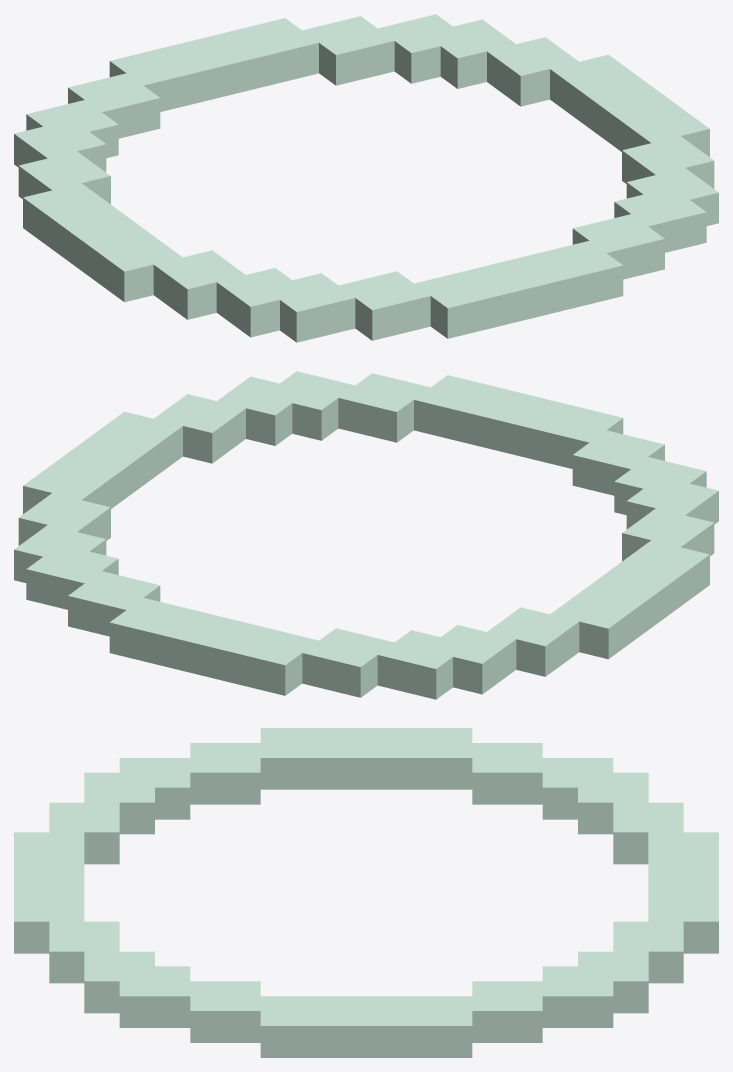
The model's file is SelectTarget.obj.
3 renders of one model, top to bottom at view 1: azimuth 30°, elevation 25°; view 2: azimuth 150°, elevation 25°; view 3: azimuth 270°, elevation 25°, orthographic. The views are drawn at different scales.
Size of the model in its own units: 2 by 0.1 by 2.
1 material, 1 textured.
